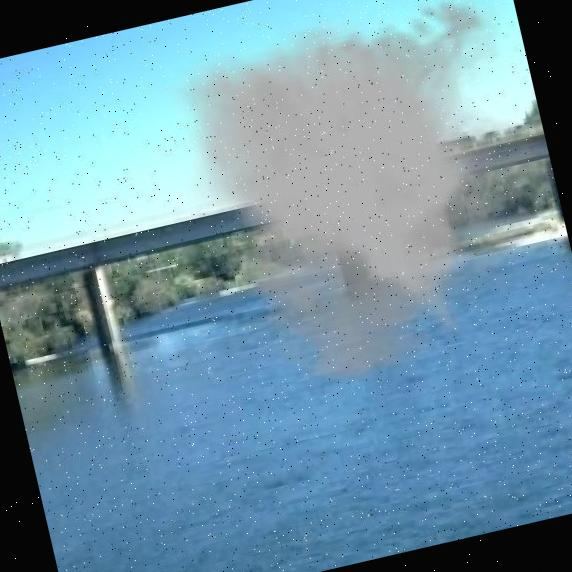smoke: (156, 0, 559, 414)
